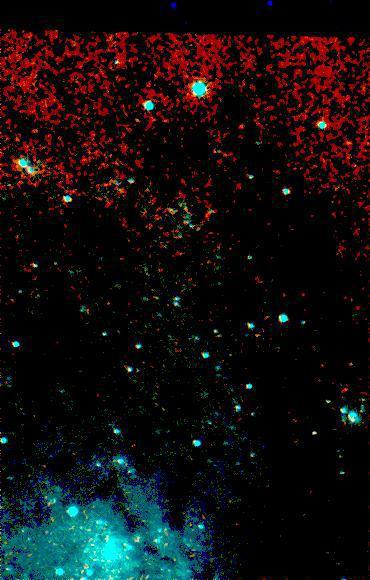star: (227, 112, 257, 142)
